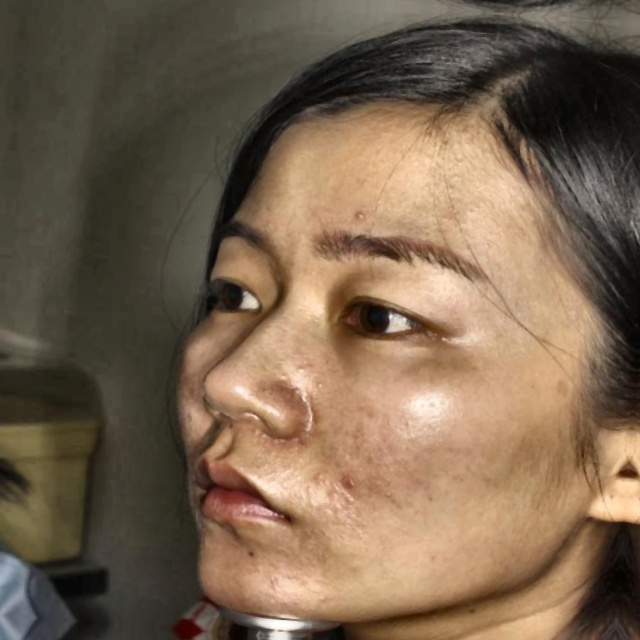comedone: (330, 471, 358, 500)
